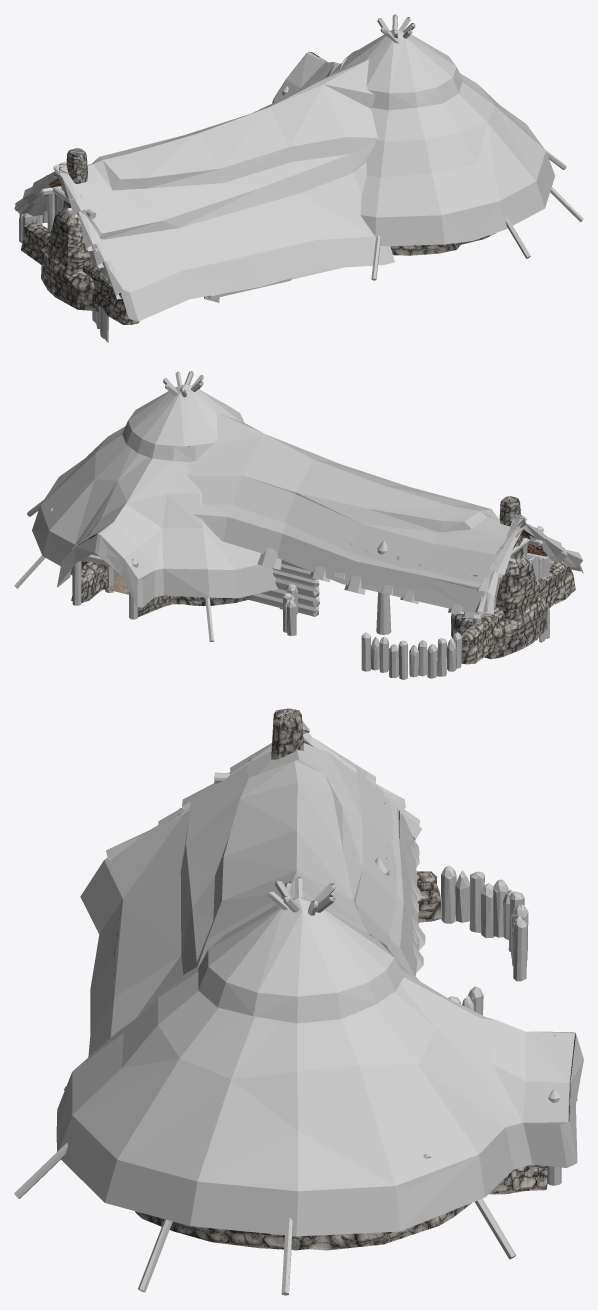
The model's file is Smith_1_LOD1.fbx.
3 views of the same model, one above another, from view 1: azimuth 30°, elevation 25°; view 2: azimuth 150°, elevation 25°; view 3: azimuth 270°, elevation 25° (orthographic). The views are drawn at different scales.
Visible parts, largest first — view 1: Alpha, Stone, Wood; view 2: Alpha, Wood, Stone; view 3: Alpha, Wood, Stone.
Part boxes in pixels (box(x1,y1,x2,y2)): Alpha: box(14, 29, 554, 321); Stone: box(21, 148, 495, 324); Wood: box(19, 14, 583, 342); Alpha: box(32, 384, 583, 618); Wood: box(14, 371, 554, 679); Stone: box(71, 496, 575, 664); Alpha: box(56, 721, 583, 1236); Wood: box(14, 772, 561, 1295); Stone: box(135, 708, 547, 1250).
Bounding box in the file's own units: 3332 × 2061 × 1315.
